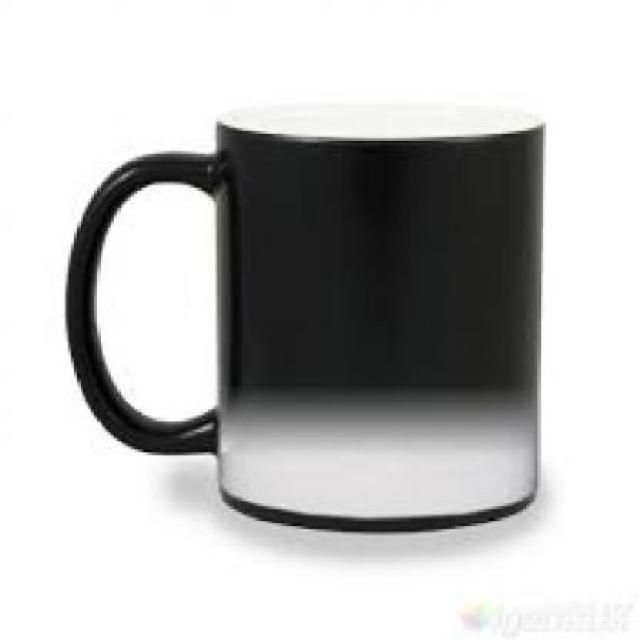cup: (54, 88, 568, 543)
